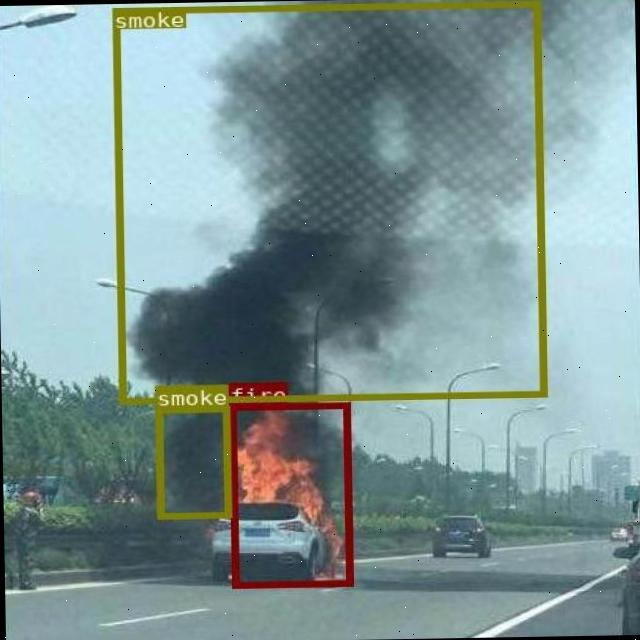fire: (228, 400, 352, 586)
smoke: (111, 0, 544, 402), (154, 406, 230, 518)
